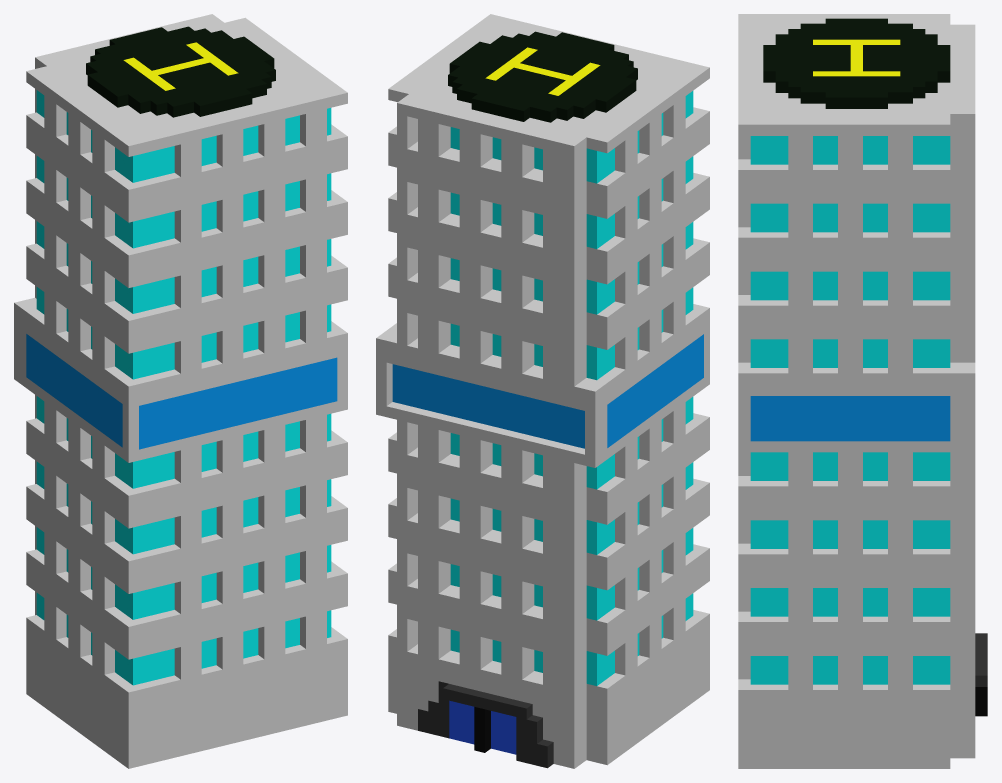
Rendered from Buil2.obj.
The picture shows the model from 3 angles, left to right: view 1: azimuth 30°, elevation 25°; view 2: azimuth 150°, elevation 25°; view 3: azimuth 270°, elevation 25°; orthographic projection. The views are drawn at different scales.
Parts seen in each view (by area): view 1: 立方体.12885; view 2: 立方体.12885; view 3: 立方体.12885.
Boxes of the visible parts, x1=… form: 立方体.12885: x1=14, y1=14, x2=347, y2=768; 立方体.12885: x1=376, y1=14, x2=709, y2=768; 立方体.12885: x1=738, y1=14, x2=987, y2=768.
Size of the model in its own units: 21 by 58 by 20.
